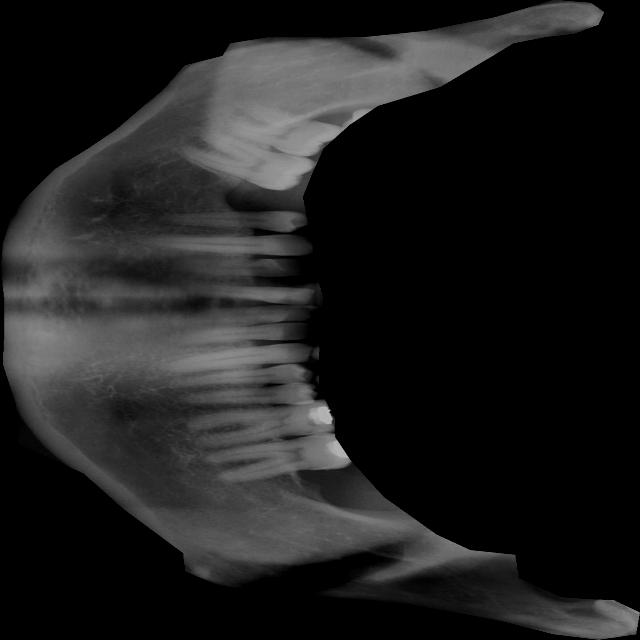mandibula: (0, 0, 639, 640)
